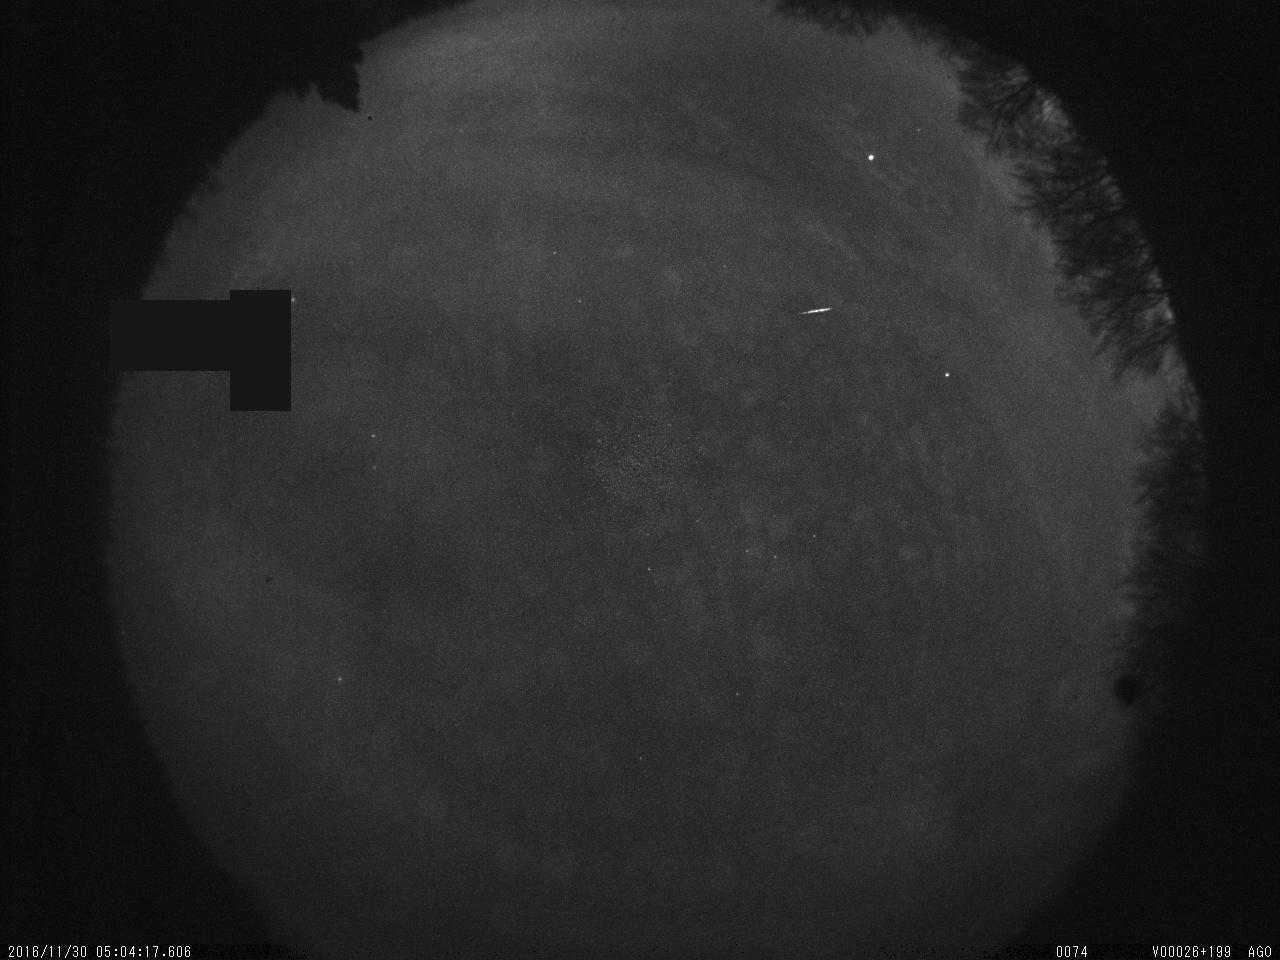Meteor: (800, 303, 834, 317)
